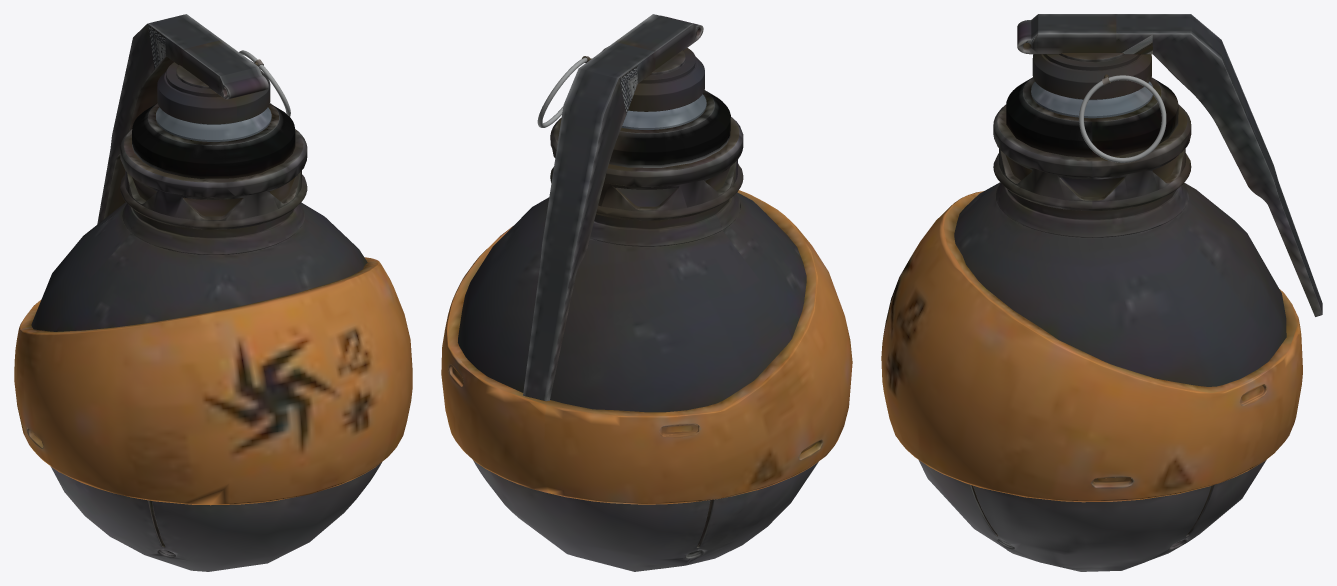
File: grenade.glb
3 views of the same model, side by side, from view 1: azimuth 30°, elevation 25°; view 2: azimuth 150°, elevation 25°; view 3: azimuth 270°, elevation 25° (orthographic). The views are drawn at different scales.
Parts seen in each view (by area): view 1: Sphere.001, Sphere, Sphere.002, Cube.002, Sphere.004, Cylinder.001, Cylinder; view 2: Sphere, Sphere.001, Cube.002, Sphere.002, Sphere.004, Cylinder.001, Cylinder, Circle.001; view 3: Sphere.001, Sphere, Cube.002, Sphere.002, Sphere.004, Cylinder.001, Cylinder, Circle.001.
Part boxes in pixels (<box>): Sphere.001: <box>14,257,412,505</box>; Sphere: <box>31,202,381,571</box>; Sphere.002: <box>120,129,307,229</box>; Cube.002: <box>97,14,268,224</box>; Sphere.004: <box>132,103,295,178</box>; Cylinder.001: <box>157,61,270,124</box>; Cylinder: <box>156,107,271,141</box>; Sphere: <box>458,192,818,571</box>; Sphere.001: <box>441,190,852,504</box>; Cube.002: <box>523,14,703,401</box>; Sphere.002: <box>550,117,743,220</box>; Sphere.004: <box>609,90,730,167</box>; Cylinder.001: <box>602,46,704,111</box>; Cylinder: <box>621,94,706,129</box>; Circle.001: <box>537,57,587,127</box>; Sphere.001: <box>881,191,1302,502</box>; Sphere: <box>918,182,1286,571</box>; Cube.002: <box>1017,14,1322,316</box>; Sphere.002: <box>993,104,1191,210</box>; Sphere.004: <box>1006,77,1178,157</box>; Cylinder.001: <box>1032,53,1151,99</box>; Cylinder: <box>1031,81,1152,118</box>; Circle.001: <box>1079,75,1166,162</box>.
Size of the model in its own units: 0.9229 by 1.29 by 0.9659.
Materials: 10 (9 with a texture image).
